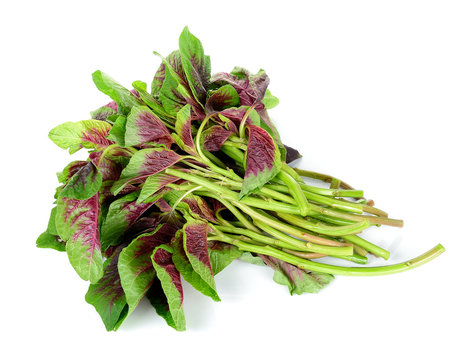Bayam: (20, 24, 453, 348)
